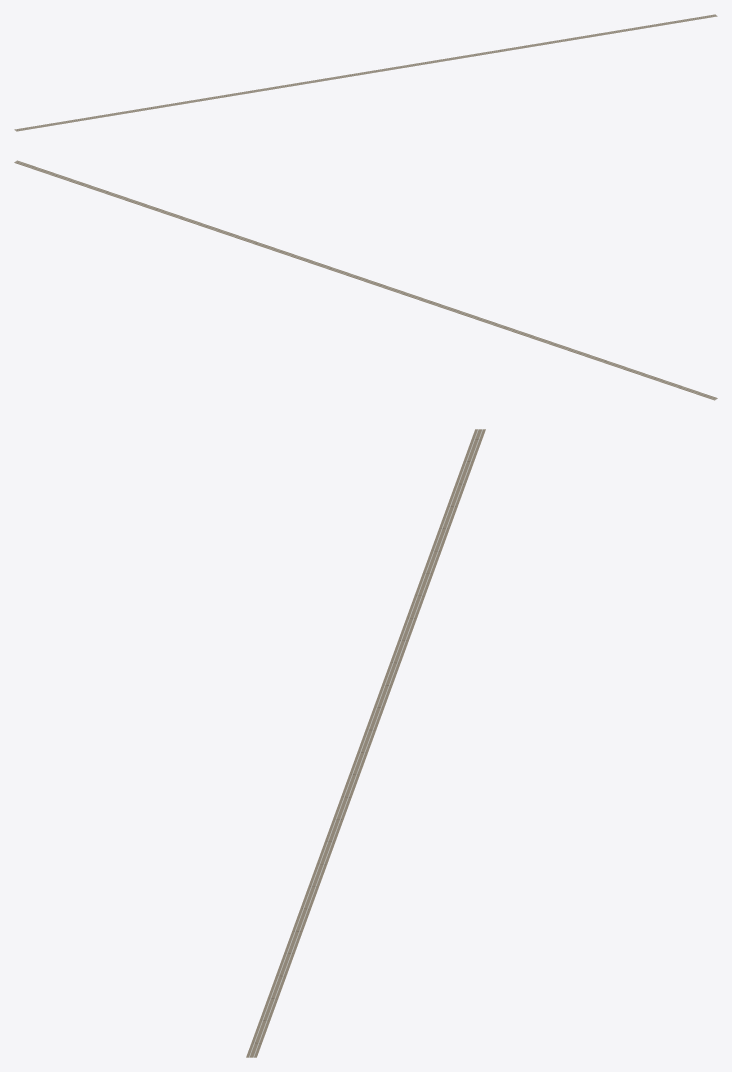
3 views of the same model, one above another, from view 1: azimuth 30°, elevation 25°; view 2: azimuth 150°, elevation 25°; view 3: azimuth 270°, elevation 25° (orthographic). The views are drawn at different scales.
Visible parts, largest first — view 1: rail; view 2: rail; view 3: rail.
Boxes of the visible parts, bbox=[...] form: rail: bbox=[14, 14, 717, 131]; rail: bbox=[14, 160, 717, 400]; rail: bbox=[246, 429, 485, 1057].
Bounding box in the file's own units: 500 × 0.04 × 80.72.
